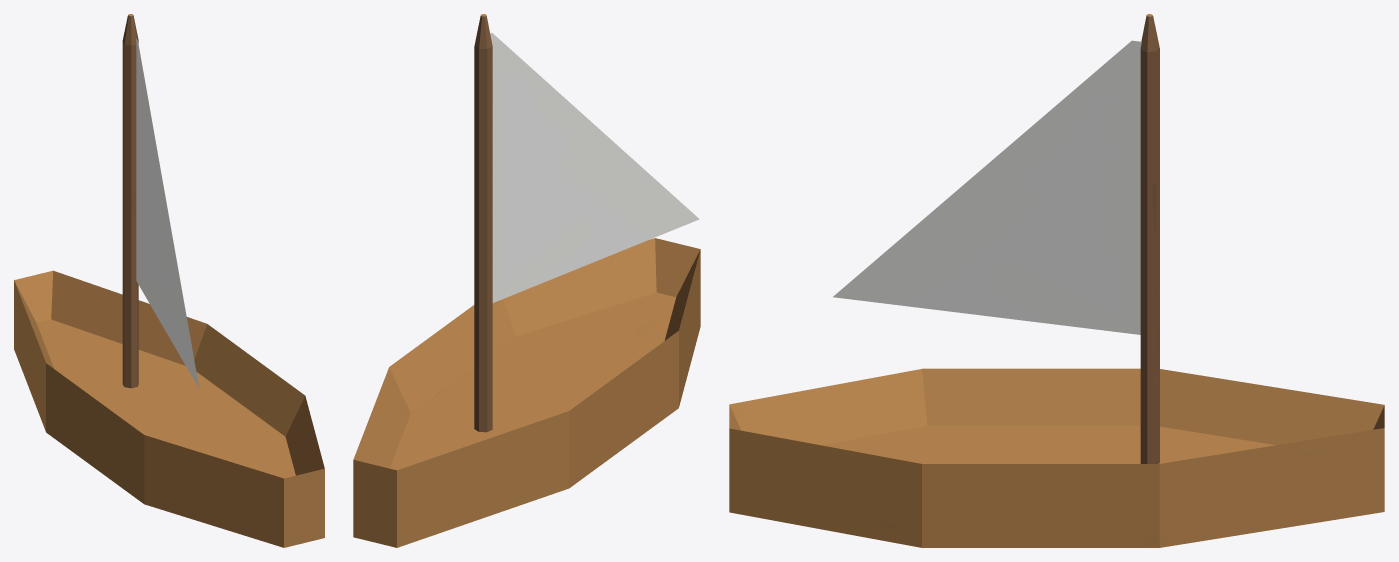
Rendered from Sailboat.glb.
3 renders of one model, left to right at view 1: azimuth 30°, elevation 25°; view 2: azimuth 150°, elevation 25°; view 3: azimuth 270°, elevation 25°, orthographic. The views are drawn at different scales.
Parts seen in each view (by area): view 1: Cube; view 2: Cube; view 3: Cube.
Boxes of the visible parts, x1,y1,x2,y2 form: Cube: [14, 14, 324, 547]; Cube: [353, 14, 700, 547]; Cube: [729, 14, 1384, 547].
Size of the model in its own units: 2 by 4.75 by 5.82.
Materials: 1 (1 with a texture image).
